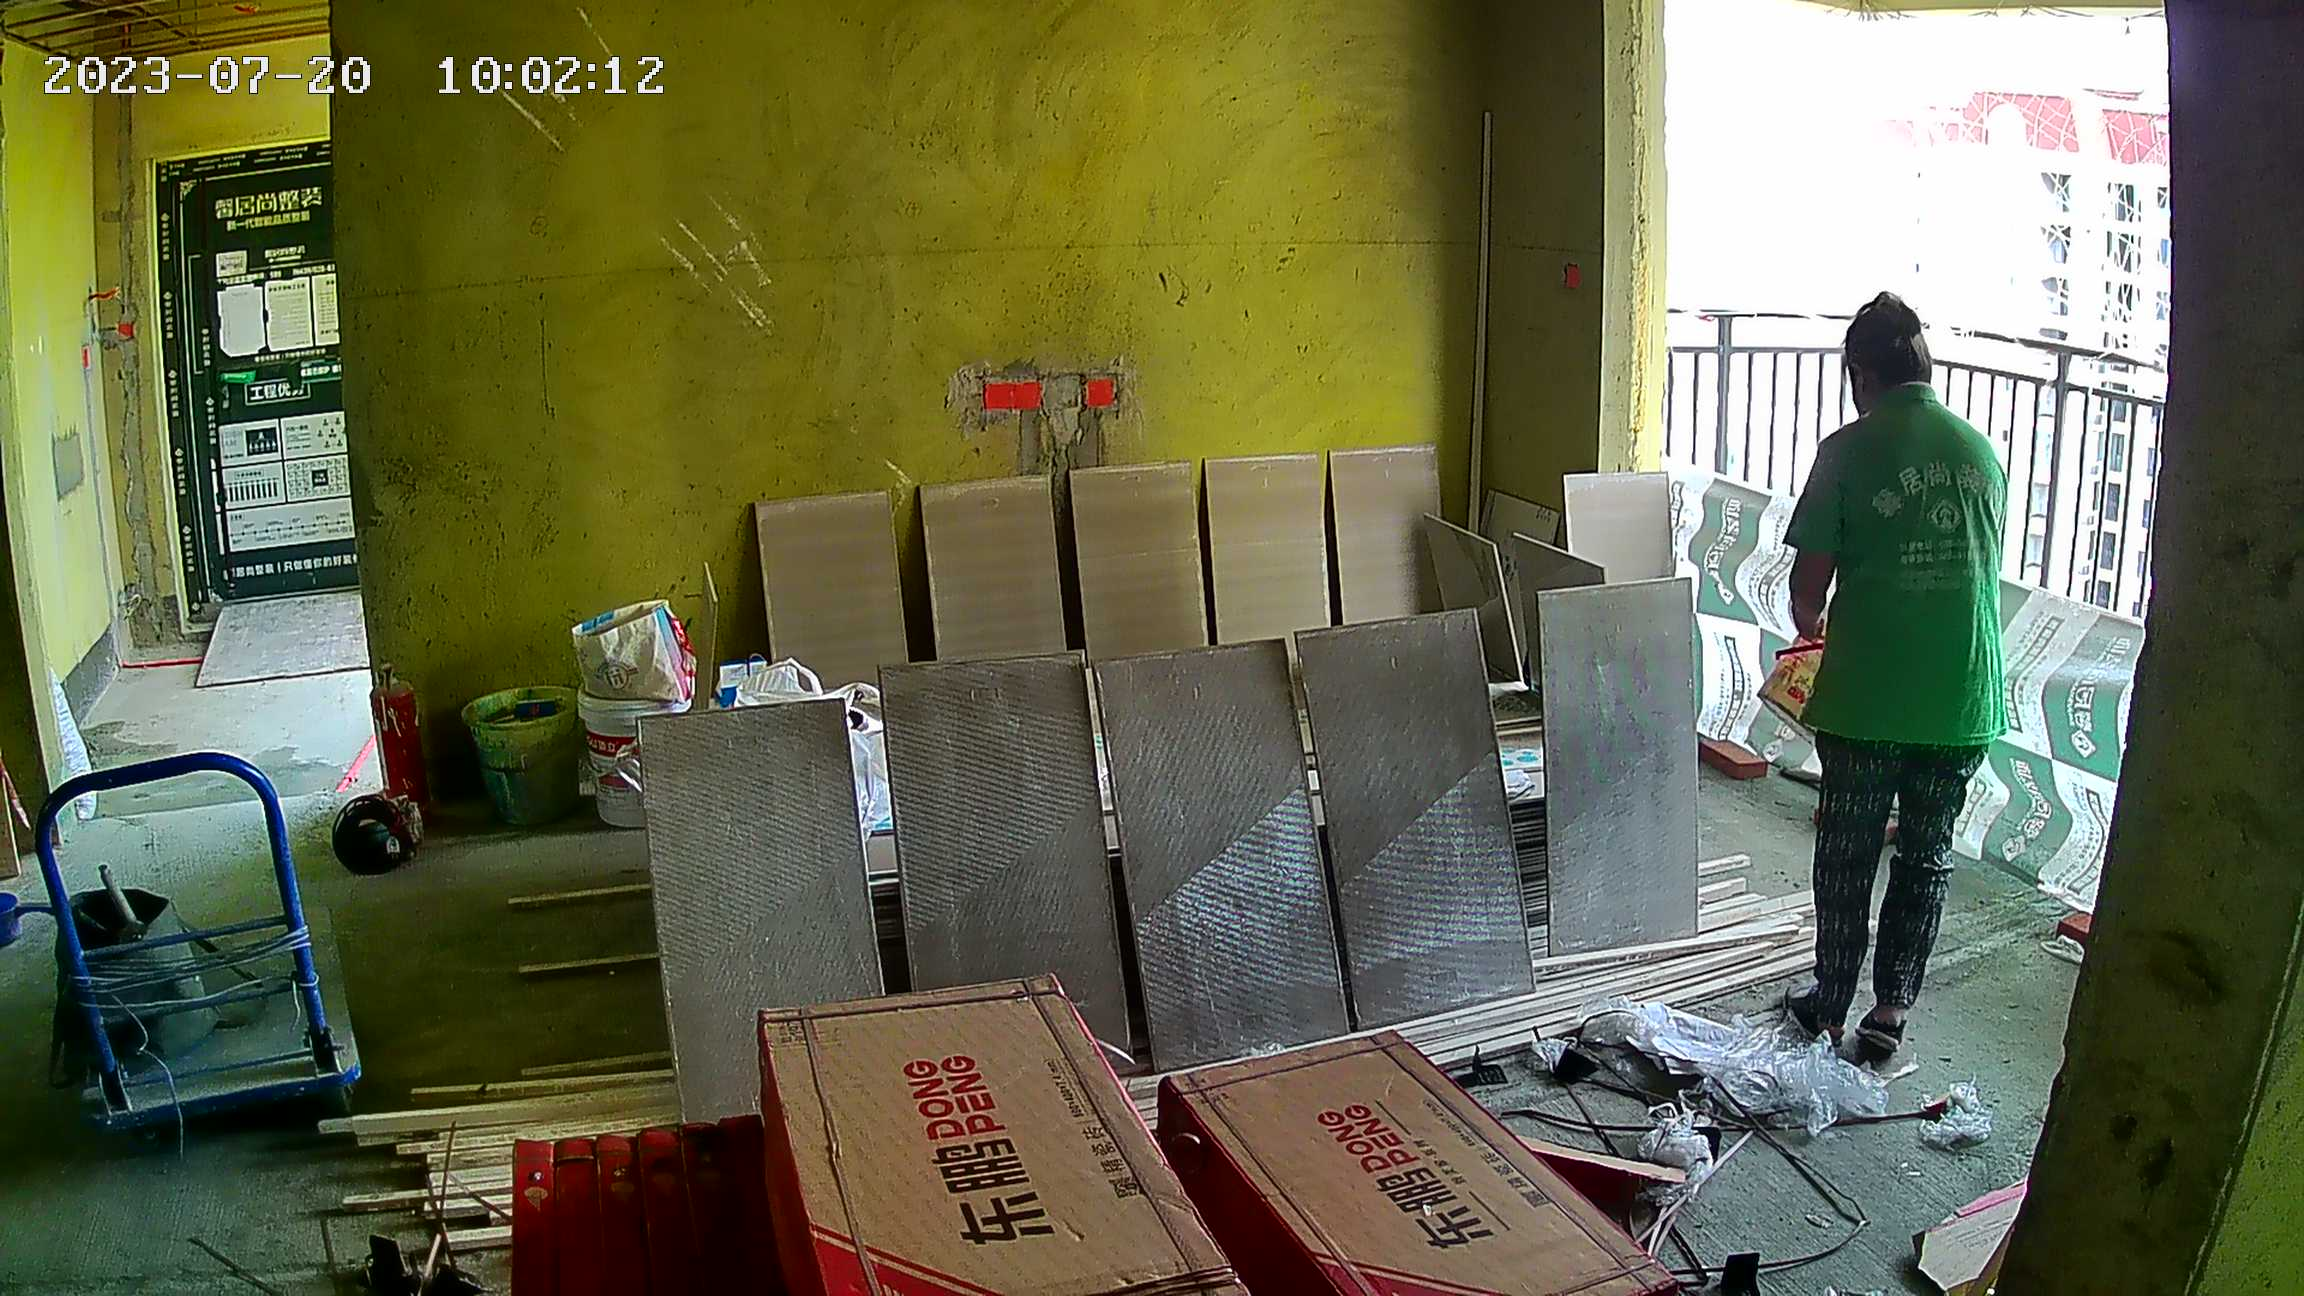people: (1783, 294, 2012, 1072)
window: (1659, 1, 2173, 630)
